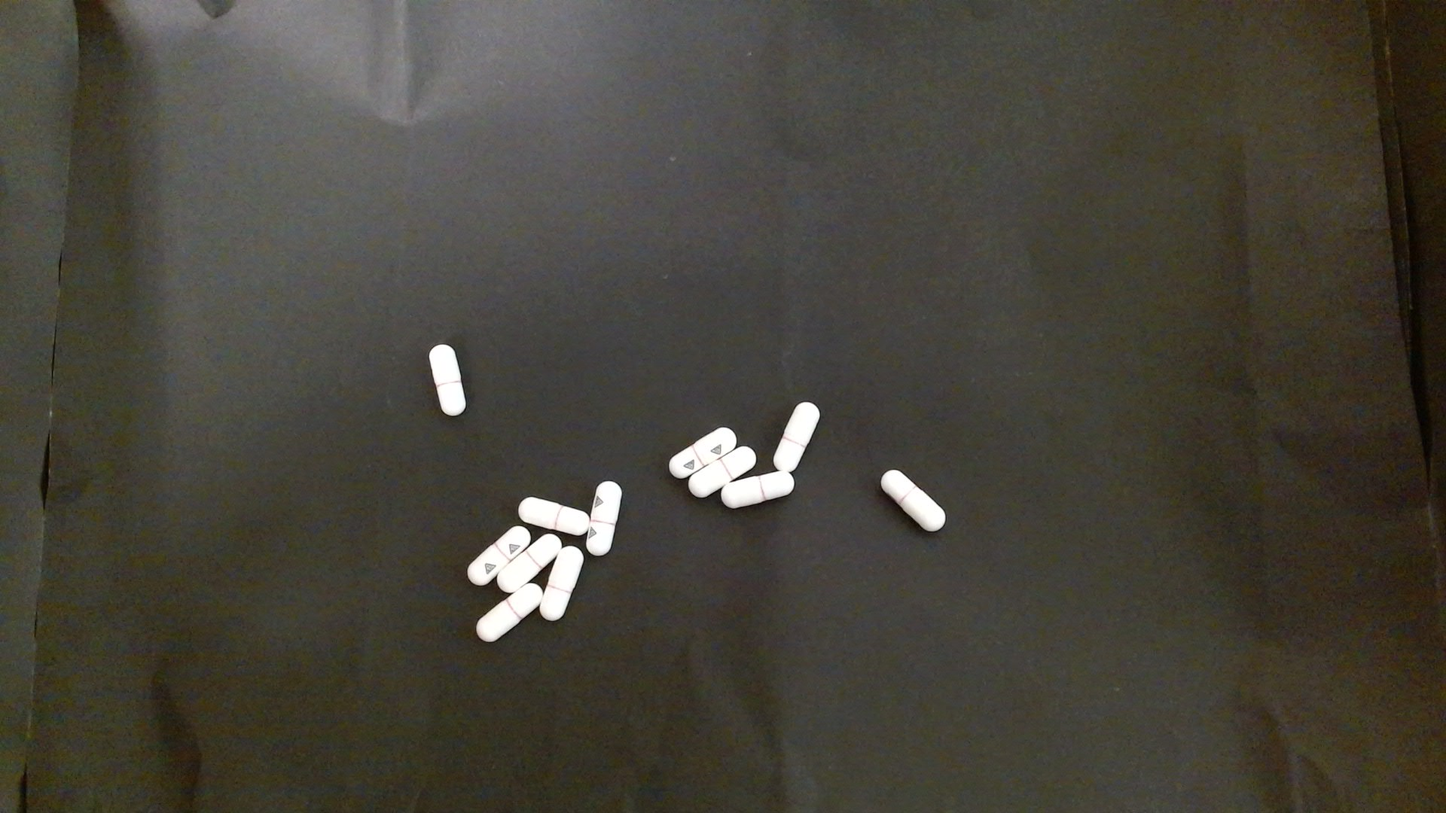Capsule: (876, 466, 947, 535), (462, 526, 533, 586), (475, 581, 544, 642), (496, 531, 560, 594), (669, 425, 738, 479), (688, 445, 758, 498), (540, 544, 584, 623), (774, 401, 820, 471), (518, 496, 589, 537), (721, 470, 794, 509), (428, 344, 466, 416), (585, 481, 621, 556)
